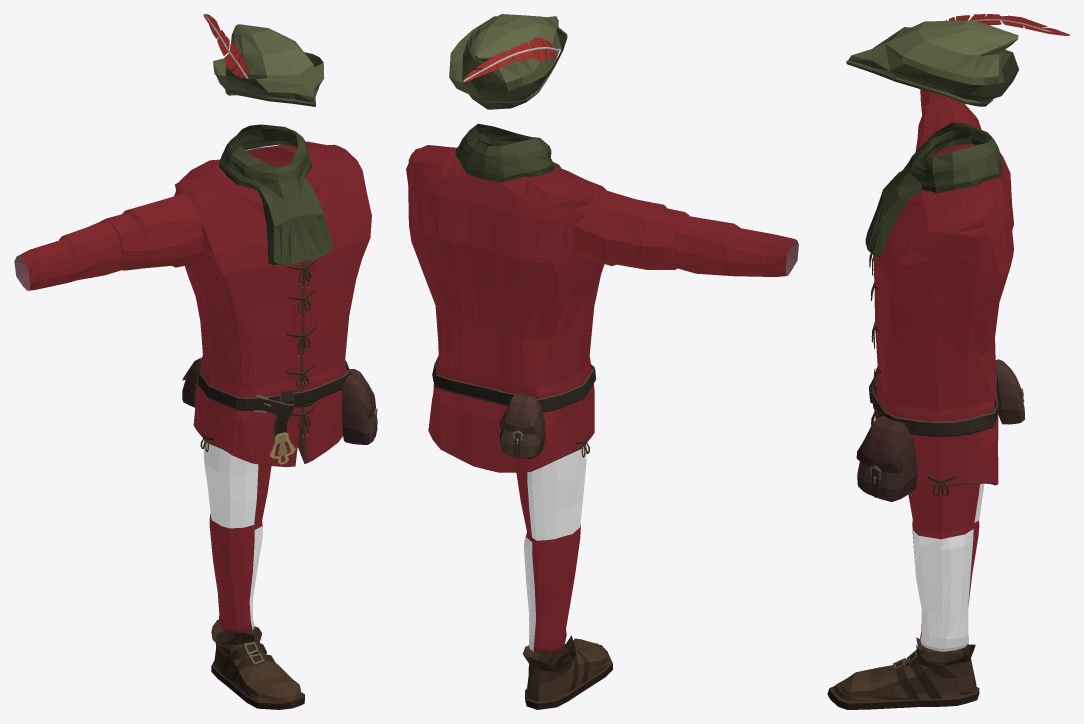
File: commonerColorful.glb
3 views of the same model, side by side, from view 1: azimuth 30°, elevation 25°; view 2: azimuth 150°, elevation 25°; view 3: azimuth 270°, elevation 25° (orthographic). The views are drawn at different scales.
Parts seen in each view (by area): view 1: commonerColorfulShirt, commonerColorfulScarf, commonerColorfulHat, commonerColorfulBelt, commonerColorfulManUpperArm, commonerColorfulShoeFootLeg, commonerColorfulManLowerArm, commonerColorfulPantsLowerLeg, commonerColorfulUpperLeg; view 2: commonerColorfulShirt, commonerColorfulHat, commonerColorfulManUpperArm, commonerColorfulManLowerArm, commonerColorfulPantsLowerLeg, commonerColorfulUpperLeg, commonerColorfulBelt, commonerColorfulShoeFootLeg, commonerColorfulScarf; view 3: commonerColorfulShirt, commonerColorfulHat, commonerColorfulBelt, commonerColorfulShoeFootLeg, commonerColorfulScarf, commonerColorfulPantsLowerLeg, commonerColorfulUpperLeg, commonerColorfulManUpperArm.
Boxes of the visible parts, x1,y1,x2,y2 form: commonerColorfulShirt: (174, 141, 371, 467); commonerColorfulScarf: (219, 124, 333, 265); commonerColorfulHat: (203, 14, 324, 106); commonerColorfulBelt: (182, 357, 377, 464); commonerColorfulManUpperArm: (101, 194, 205, 270); commonerColorfulShoeFootLeg: (211, 619, 304, 709); commonerColorfulManLowerArm: (14, 221, 121, 290); commonerColorfulPantsLowerLeg: (209, 513, 262, 633); commonerColorfulUpperLeg: (203, 439, 271, 528); commonerColorfulShirt: (406, 145, 606, 472); commonerColorfulHat: (449, 14, 567, 109); commonerColorfulManUpperArm: (573, 190, 689, 269); commonerColorfulManLowerArm: (671, 215, 798, 276); commonerColorfulPantsLowerLeg: (524, 524, 580, 652); commonerColorfulUpperLeg: (516, 444, 586, 540); commonerColorfulBelt: (432, 357, 595, 459); commonerColorfulShoeFootLeg: (523, 635, 612, 709); commonerColorfulScarf: (455, 124, 561, 182); commonerColorfulShirt: (869, 144, 1013, 495); commonerColorfulHat: (846, 14, 1069, 106); commonerColorfulBelt: (856, 359, 1024, 501); commonerColorfulShoeFootLeg: (827, 637, 979, 709); commonerColorfulScarf: (865, 122, 1002, 257); commonerColorfulPantsLowerLeg: (912, 520, 979, 651); commonerColorfulUpperLeg: (908, 483, 984, 533); commonerColorfulManUpperArm: (915, 96, 981, 152).
Size of the model in its own units: 1.15 by 1.97 by 0.626.
